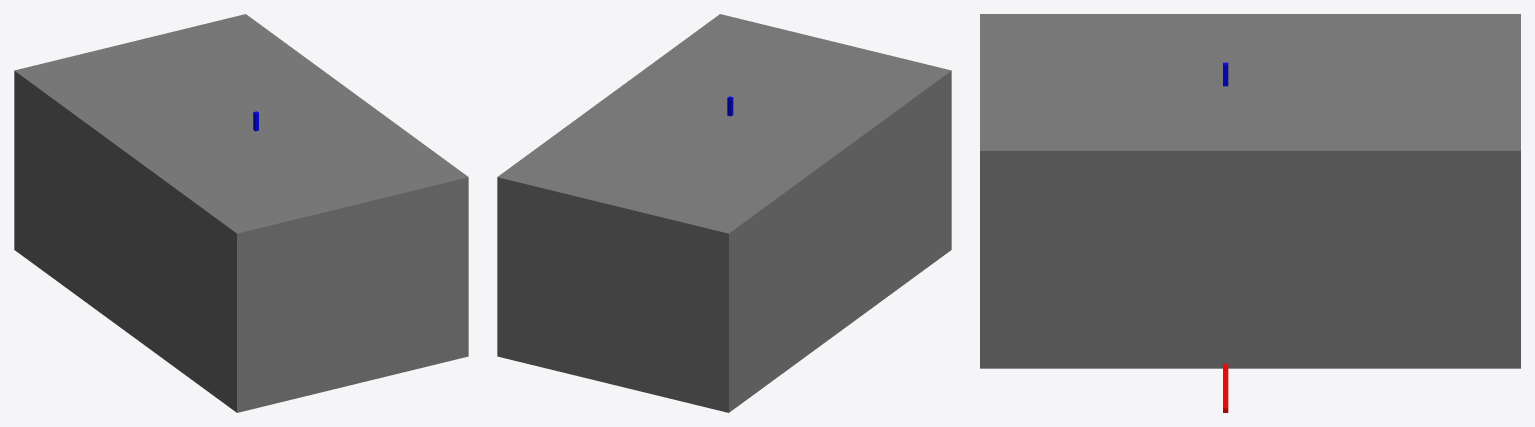
Rendered from small-brick.glb.
3 views of the same model, side by side, from view 1: azimuth 30°, elevation 25°; view 2: azimuth 150°, elevation 25°; view 3: azimuth 270°, elevation 25° (orthographic). The views are drawn at different scales.
Parts seen in each view (by area): view 1: building construction e small brickModel; view 2: building construction e small brickModel; view 3: building construction e small brickModel.
Boxes of the visible parts, x1,y1,x2,y2 form: building construction e small brickModel: [14, 14, 468, 412]; building construction e small brickModel: [497, 14, 951, 412]; building construction e small brickModel: [980, 14, 1520, 368].
Bounding box in the file's own units: 0.4072 × 0.25 × 0.5127.
Materials: 2 (1 with a texture image).
